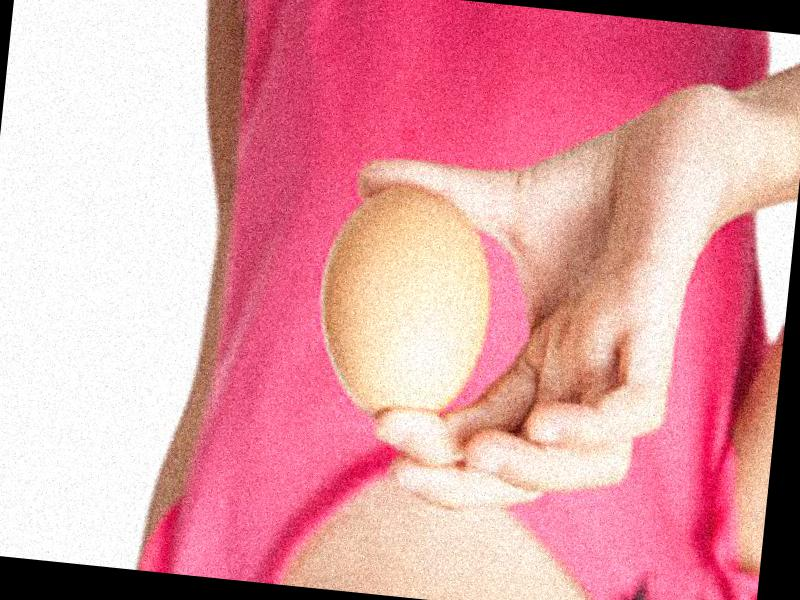Eggs: (311, 181, 500, 432)
